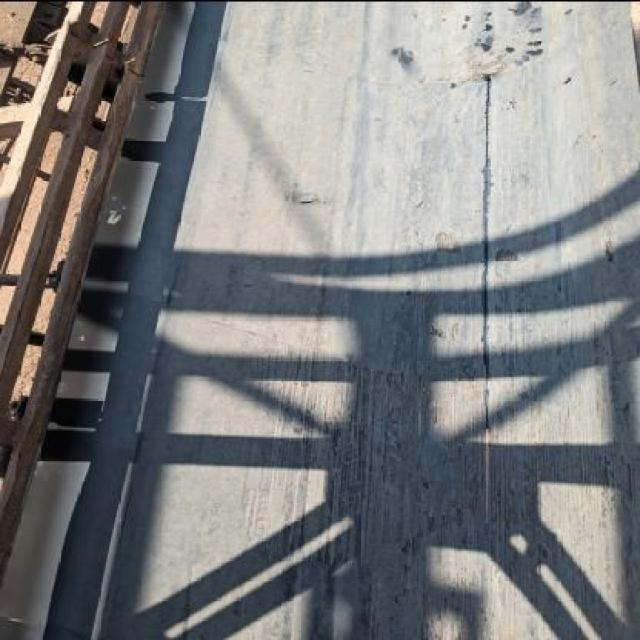Impact Damage: (426, 220, 464, 264), (493, 246, 521, 264)
Tear: (476, 71, 506, 534), (292, 193, 324, 211), (236, 280, 258, 291)
